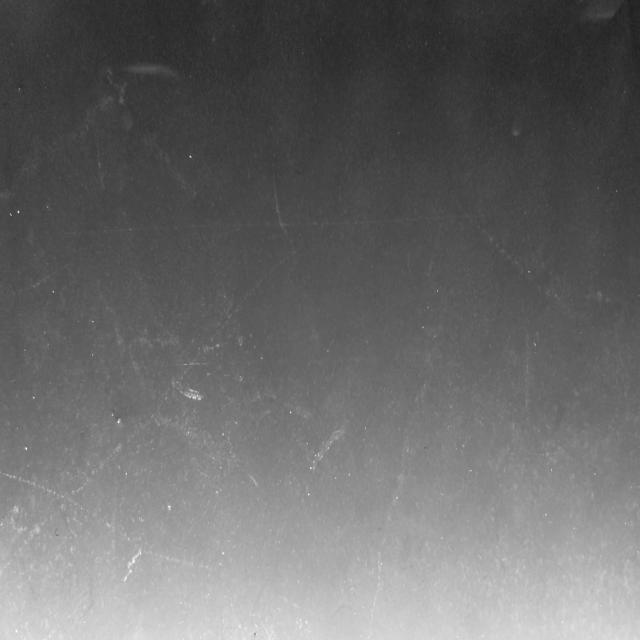beta: (0, 248, 301, 577), (0, 467, 221, 575), (367, 342, 437, 640), (442, 181, 574, 323), (272, 147, 298, 251)
